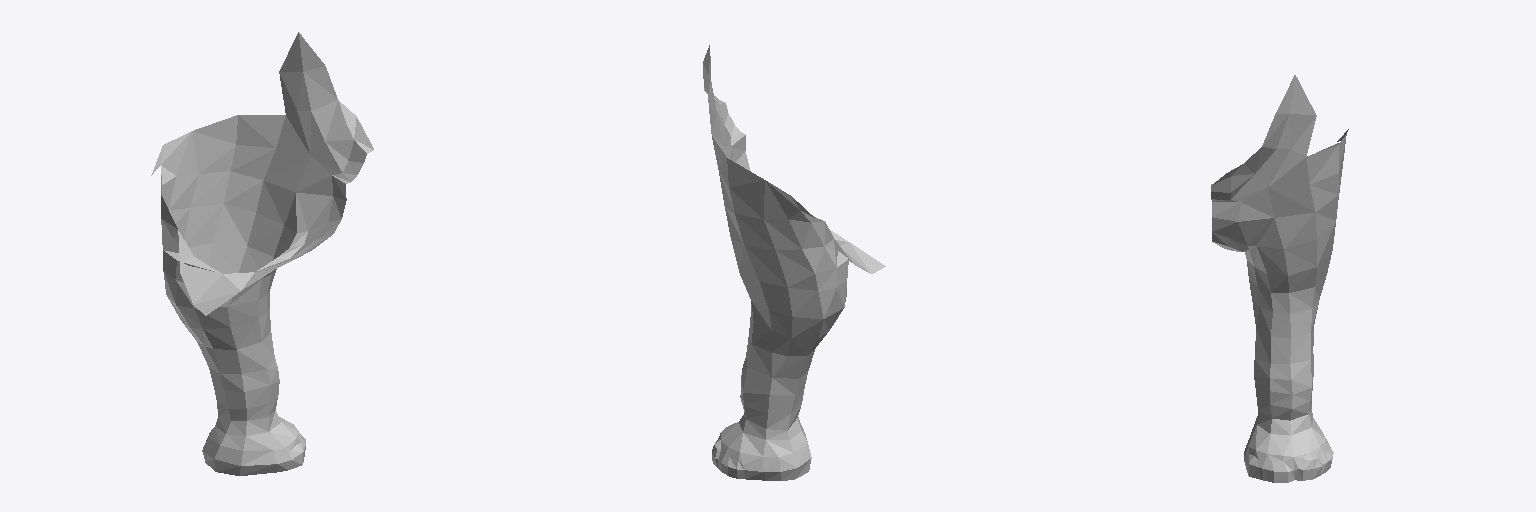
File: pataiz.obj
The picture shows the model from 3 angles: view 1: azimuth 30°, elevation 25°; view 2: azimuth 150°, elevation 25°; view 3: azimuth 270°, elevation 25°; orthographic projection.
Parts seen in each view (by area): view 1: patiz; view 2: patiz; view 3: patiz.
Boxes of the visible parts, box(x1,y1,x2,y2) form: patiz: box(151, 32, 373, 475); patiz: box(703, 45, 885, 480); patiz: box(1211, 75, 1348, 482).
Size of the model in its own units: 11.42 by 26.77 by 8.17.